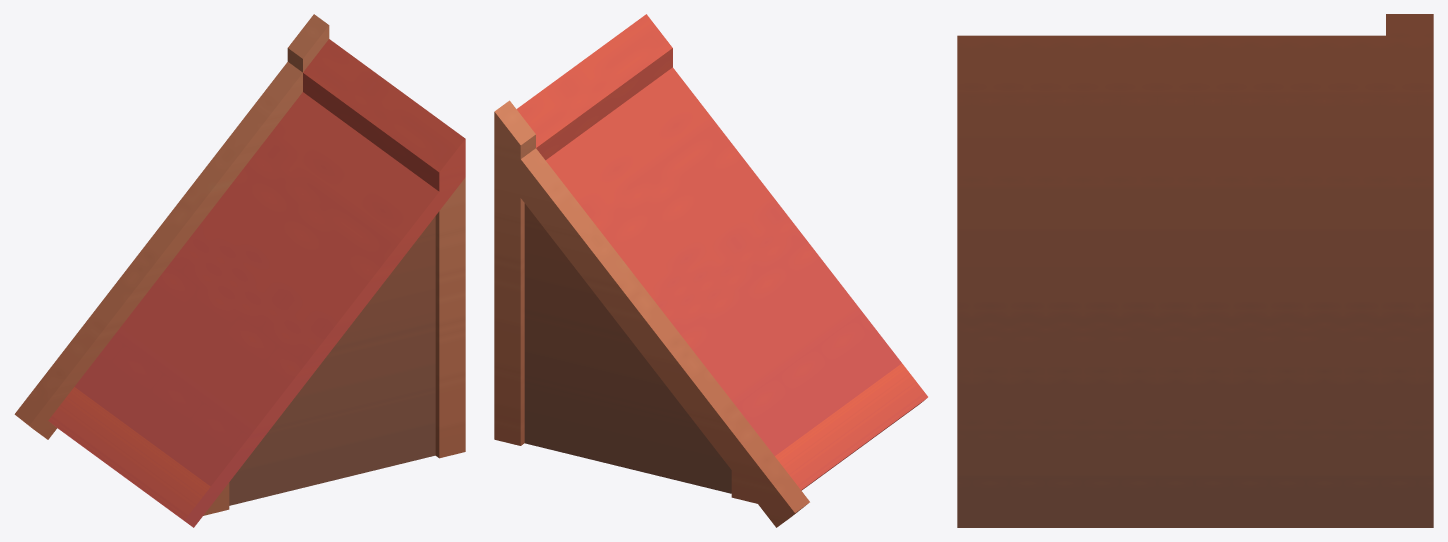
The model's file is roofHighLeft.fbx.
3 renders of one model, left to right at view 1: azimuth 30°, elevation 25°; view 2: azimuth 150°, elevation 25°; view 3: azimuth 270°, elevation 25°, orthographic. The views are drawn at different scales.
Visible parts, largest first — view 1: roofHighLeft; view 2: roofHighLeft; view 3: roofHighLeft.
Boxes of the visible parts, x1,y1,x2,y2 form: roofHighLeft: (14,14,465,527); roofHighLeft: (494,14,927,527); roofHighLeft: (957,14,1433,527).
Bounding box in the file's own units: 1.14 × 1 × 1.26.
